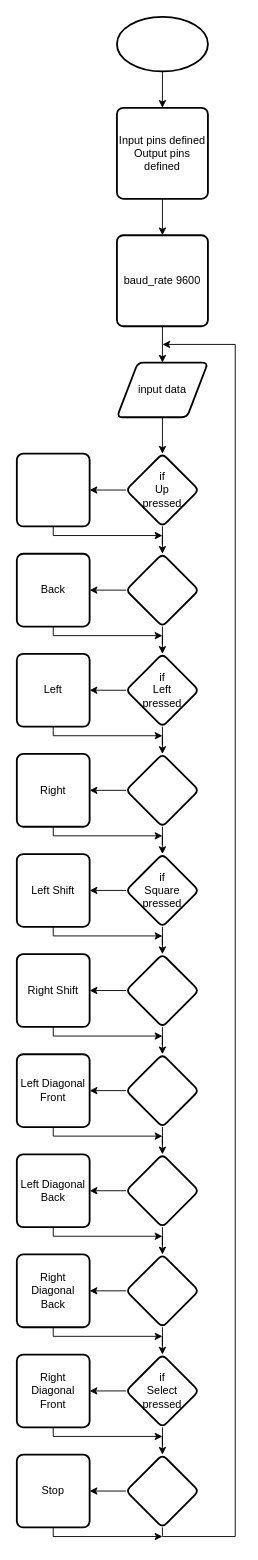
Some shapes in this 258 by 1560 pixel diagram are drawn without their labels. The box of each missing label's shape, as (x1, y1, x2, y2) in pixels:
else: (125, 1453, 199, 1528)
Front: (15, 452, 90, 527)
if Circle pressed: (125, 953, 199, 1027)
if Cross pressed: (125, 1153, 199, 1228)
if Down pressed: (125, 552, 199, 627)
if Right pressed: (125, 753, 199, 827)
if Start pressed: (125, 1253, 199, 1328)
if Triangle pressed: (125, 1053, 199, 1127)
Start: (116, 15, 208, 72)
